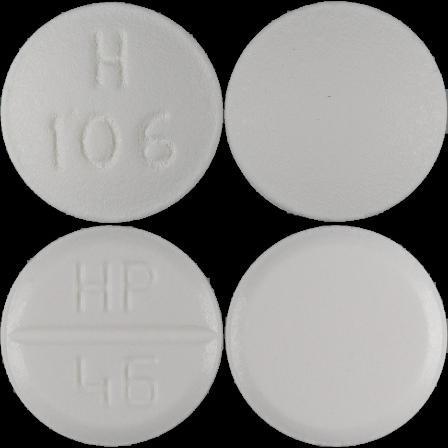50436-3874: (0, 0, 224, 224)
